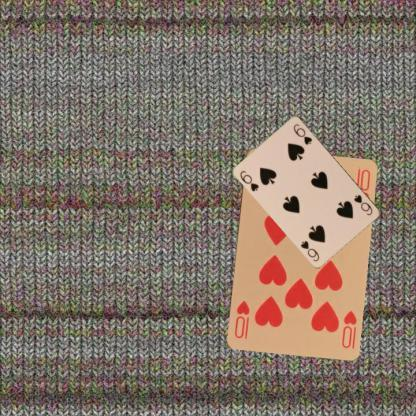10h: (338, 308, 358, 350)
6s: (238, 168, 260, 193), (352, 192, 374, 216)
